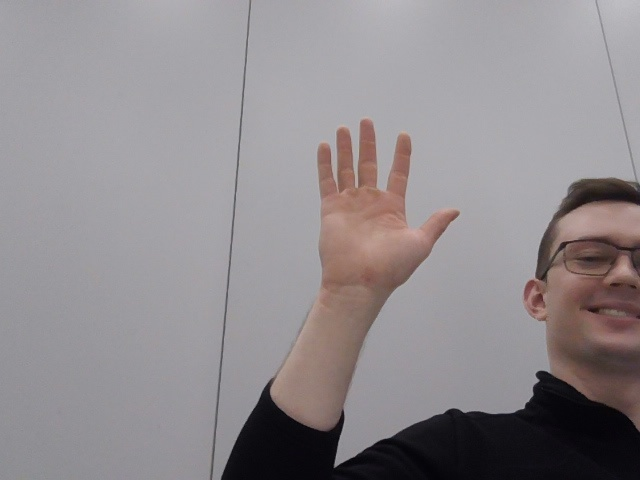nada: (289, 110, 471, 320)
